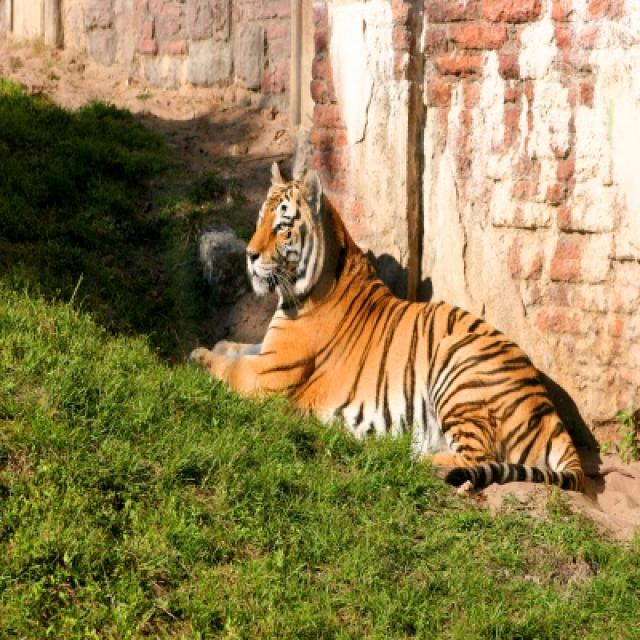Tiger: (194, 163, 587, 488)
